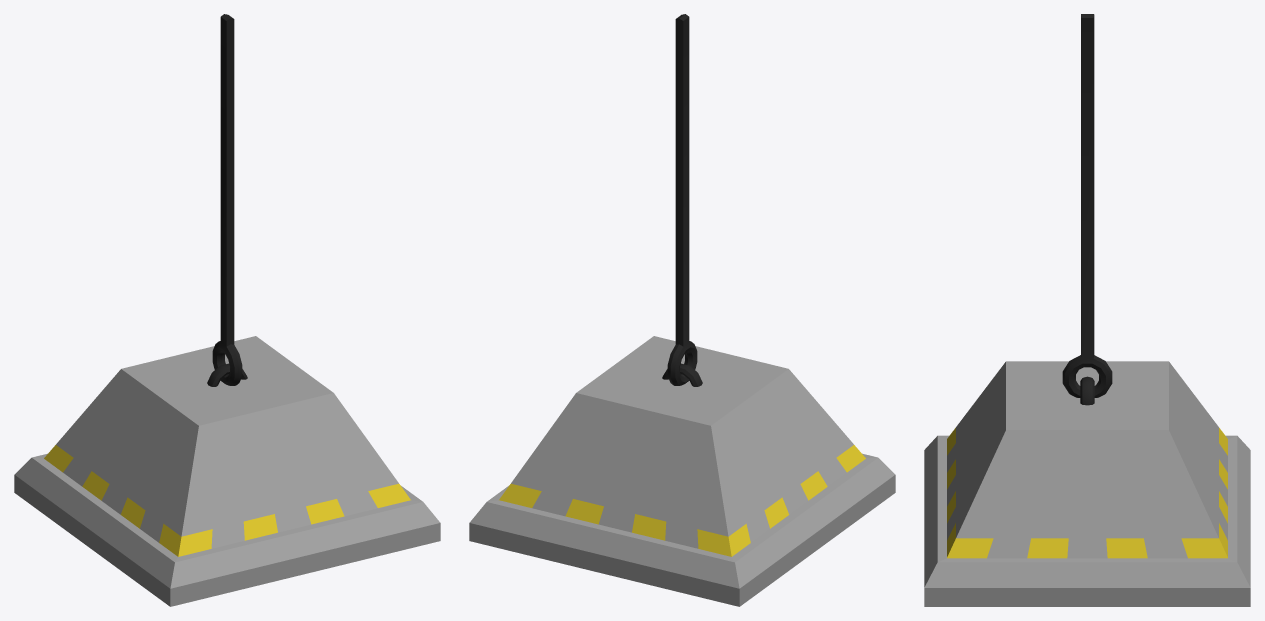
Rendered from light.fbx.
3 views of the same model, side by side, from view 1: azimuth 30°, elevation 25°; view 2: azimuth 150°, elevation 25°; view 3: azimuth 270°, elevation 25° (orthographic). The views are drawn at different scales.
Visible parts, largest first — view 1: light_1; view 2: light_1; view 3: light_1.
Boxes of the visible parts, x1=… form: light_1: x1=14, y1=14, x2=440, y2=606; light_1: x1=469, y1=14, x2=895, y2=606; light_1: x1=924, y1=14, x2=1250, y2=606.
Size of the model in its own units: 529 by 937 by 529.
